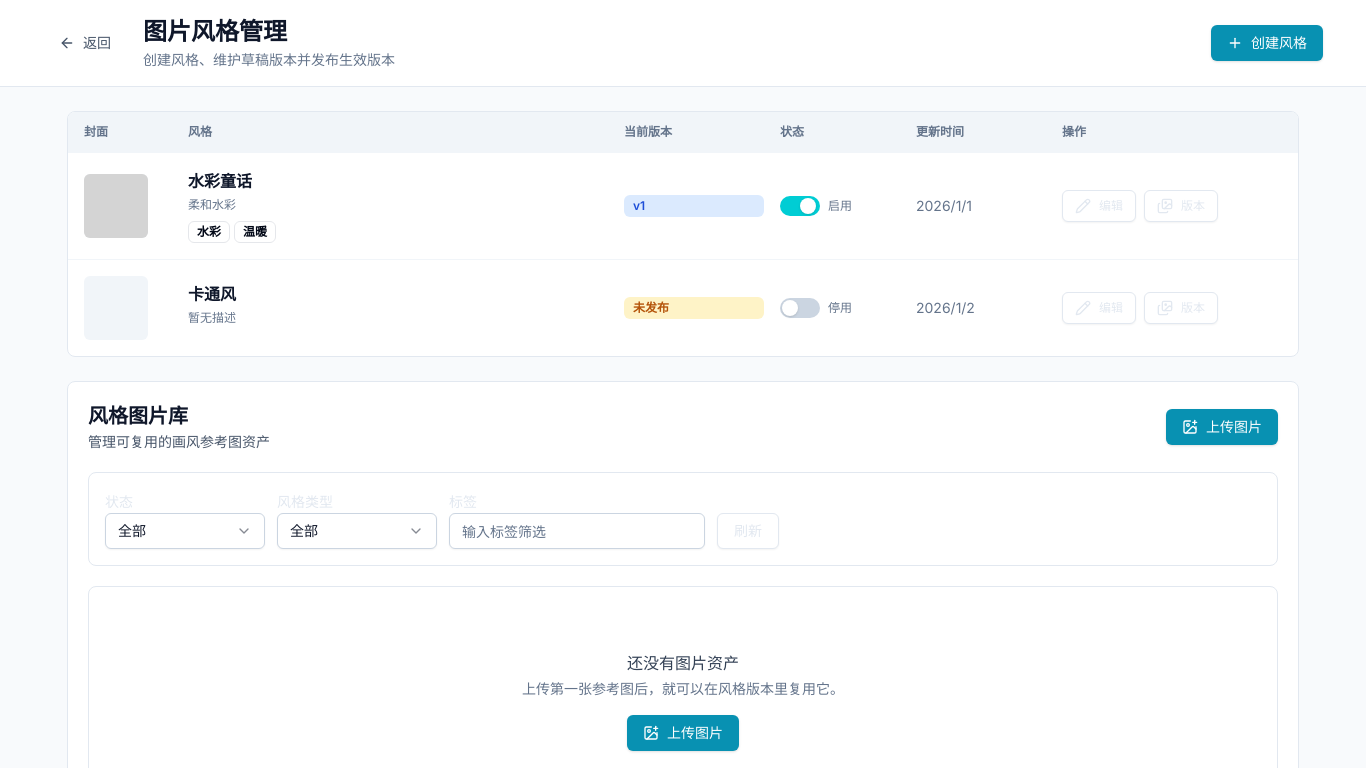
ImageStylesView › published version shows view-only badge
Expected: the heading "水彩童话" is shown, [188,171,252,191]
Click the button "版本" in the row of "2026/1/1" at (1181, 206), box [1144,190,1218,222]
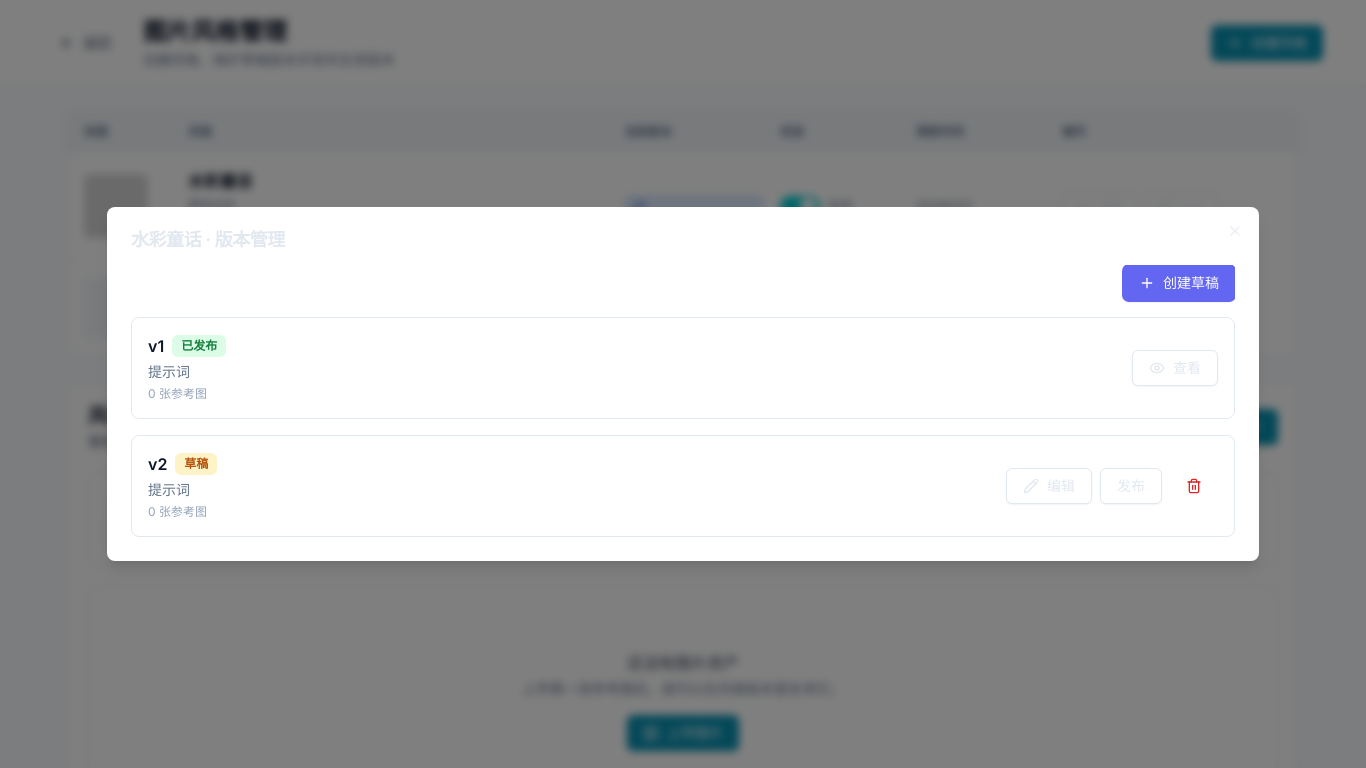
Expected: the text "已发布" is shown, [172,335,226,357]
Click the button "查看" at (1175, 368), box [1132,350,1218,386]
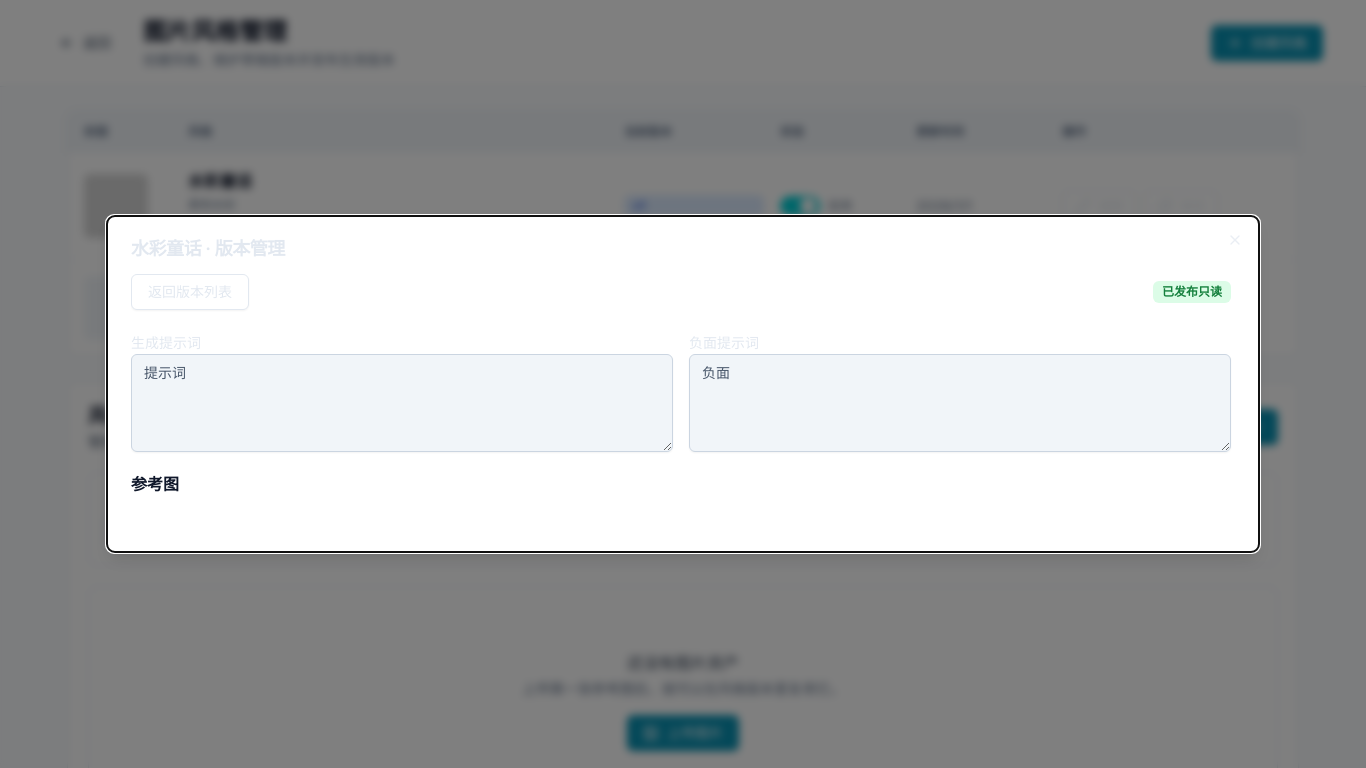
Expected: the text "已发布只读" is shown, [1153,281,1231,303]
